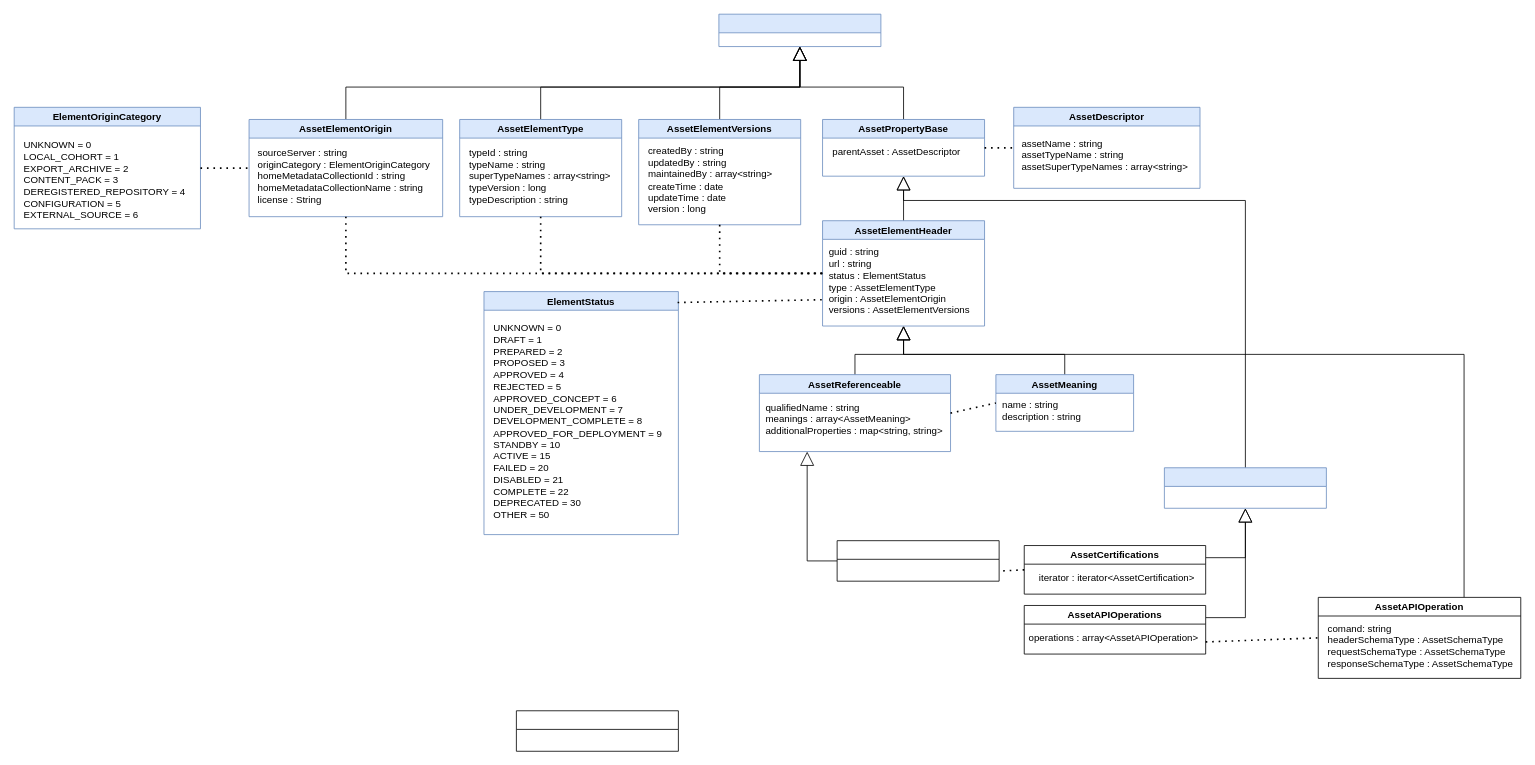
This 1535x765 diagram has some shape labels left out. Here are the shapes that lost their labels. From the top down, the centre of each, then its label:
At point (799, 30): "AssetPropertyElementBase".
At point (1245, 487): "AssetPropertyIteratorBase".
At point (917, 560): "AssetCertification".
At point (597, 730): "AssetAPISchemaType".
